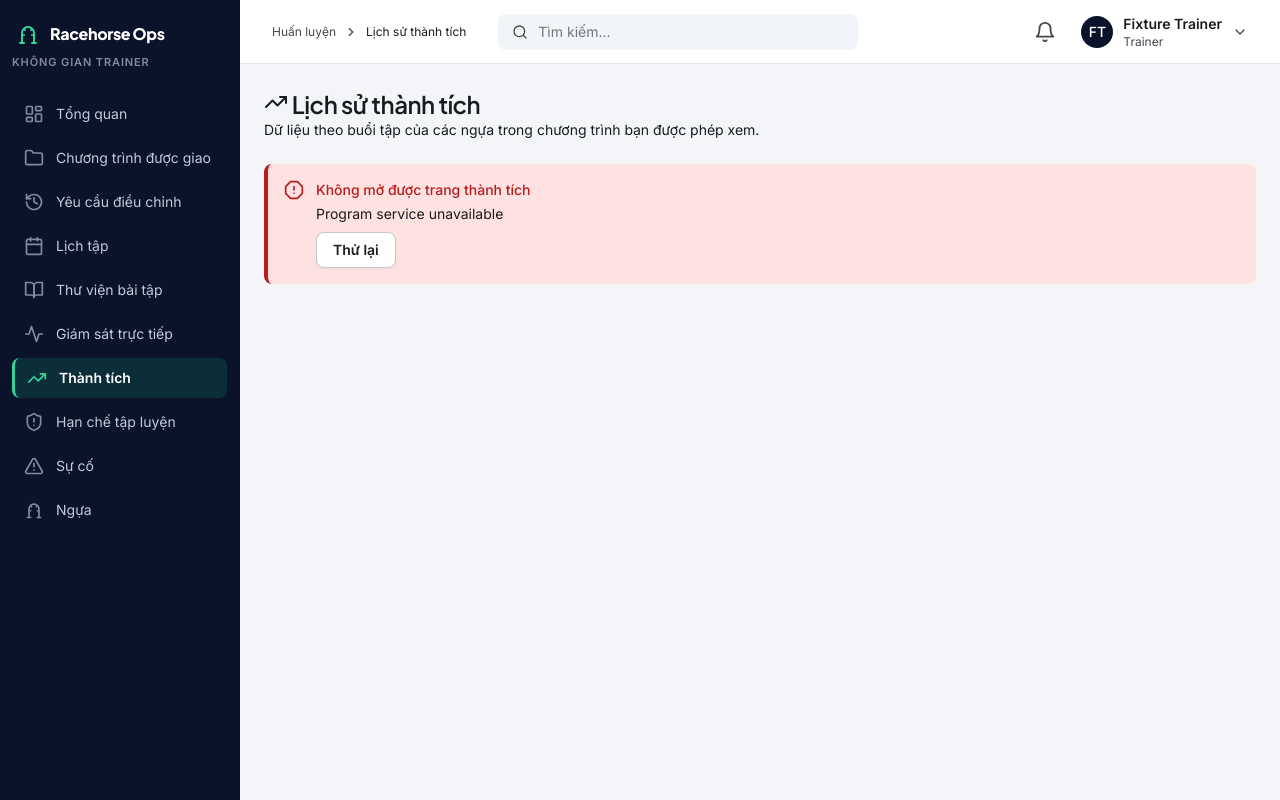
Test case: shows a real program error then retries, with no sample fallback
Expected: the text "Program service unavailable" is shown, [316,205,503,222]
Click the button "Thử lại" at (356, 250), box [316,232,396,268]
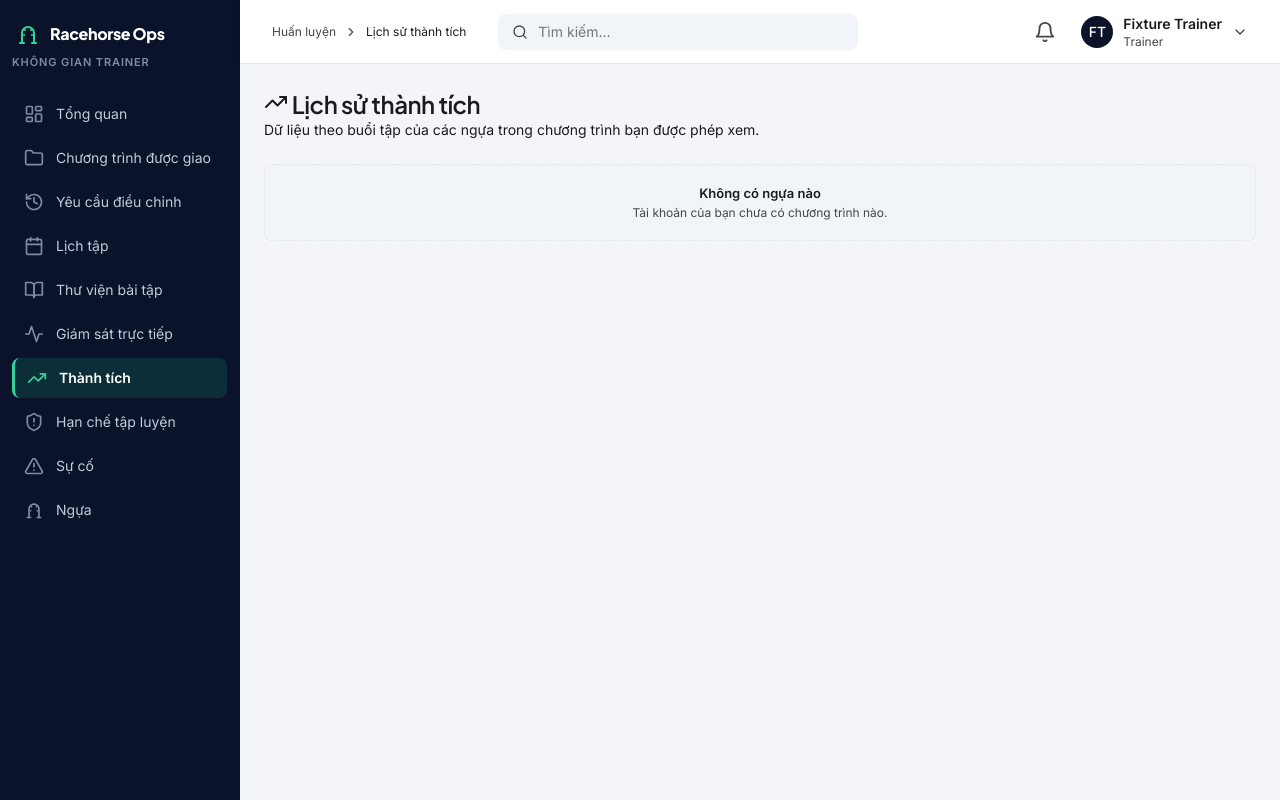
Expected: the text "Không có ngựa nào" is shown, [699,185,821,201]
